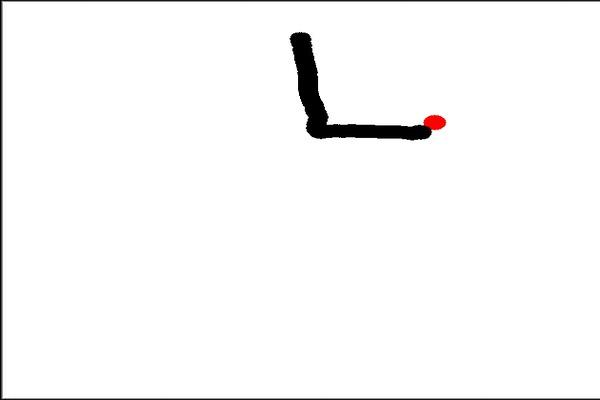L: (278, 24, 434, 147)
